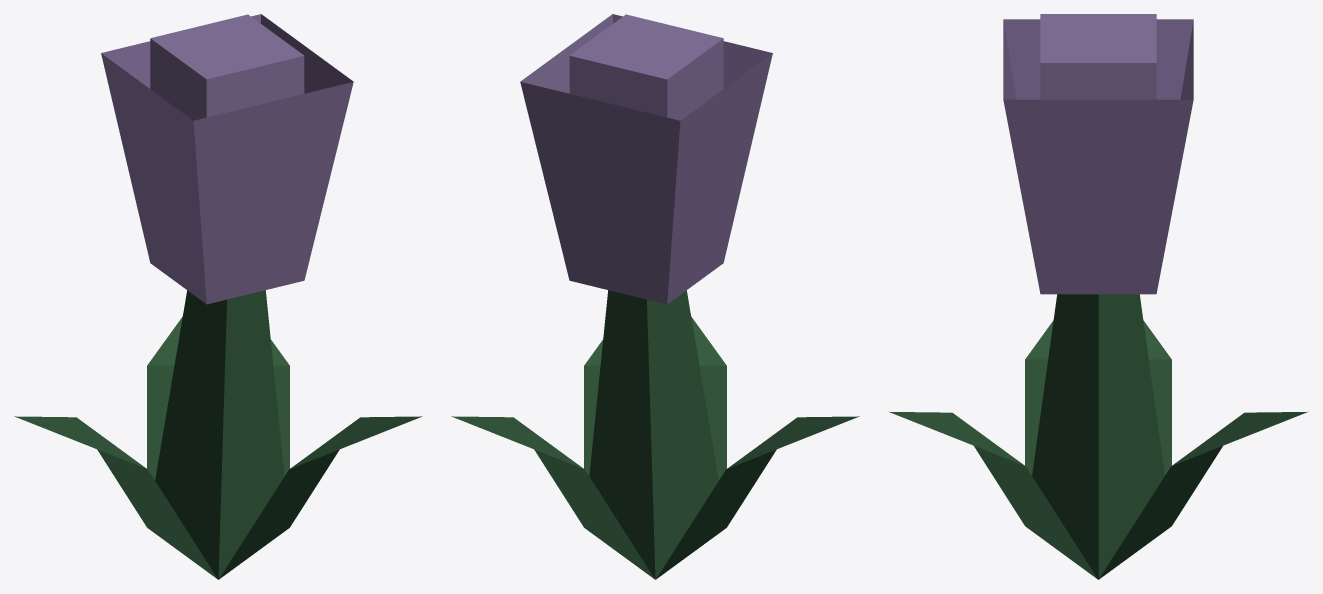
Rendered from flower_purpleA.glb.
The picture shows the model from 3 angles, left to right: view 1: azimuth 30°, elevation 25°; view 2: azimuth 150°, elevation 25°; view 3: azimuth 270°, elevation 25°; orthographic projection. The views are drawn at different scales.
Parts seen in each view (by area): view 1: flower_purpleA; view 2: flower_purpleA; view 3: flower_purpleA.
Part boxes in pixels (x1,y1,x2,y2): flower_purpleA: [14, 14, 422, 579]; flower_purpleA: [451, 14, 859, 579]; flower_purpleA: [888, 14, 1308, 579].
Size of the model in its own units: 0.1591 by 0.2425 by 0.1811.
